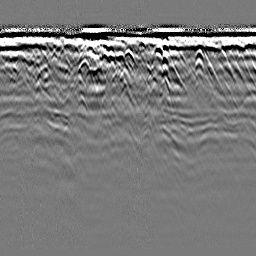cavity: (124, 45, 134, 62)
